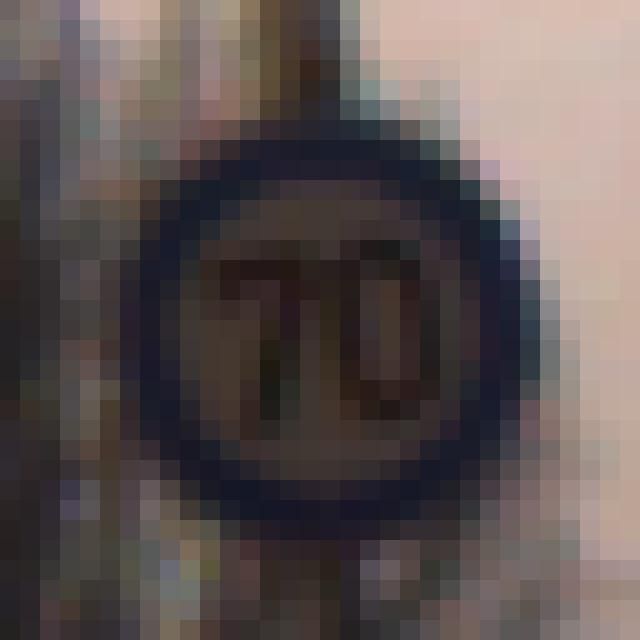SPEED LIMIT 70: (100, 126, 546, 554)
